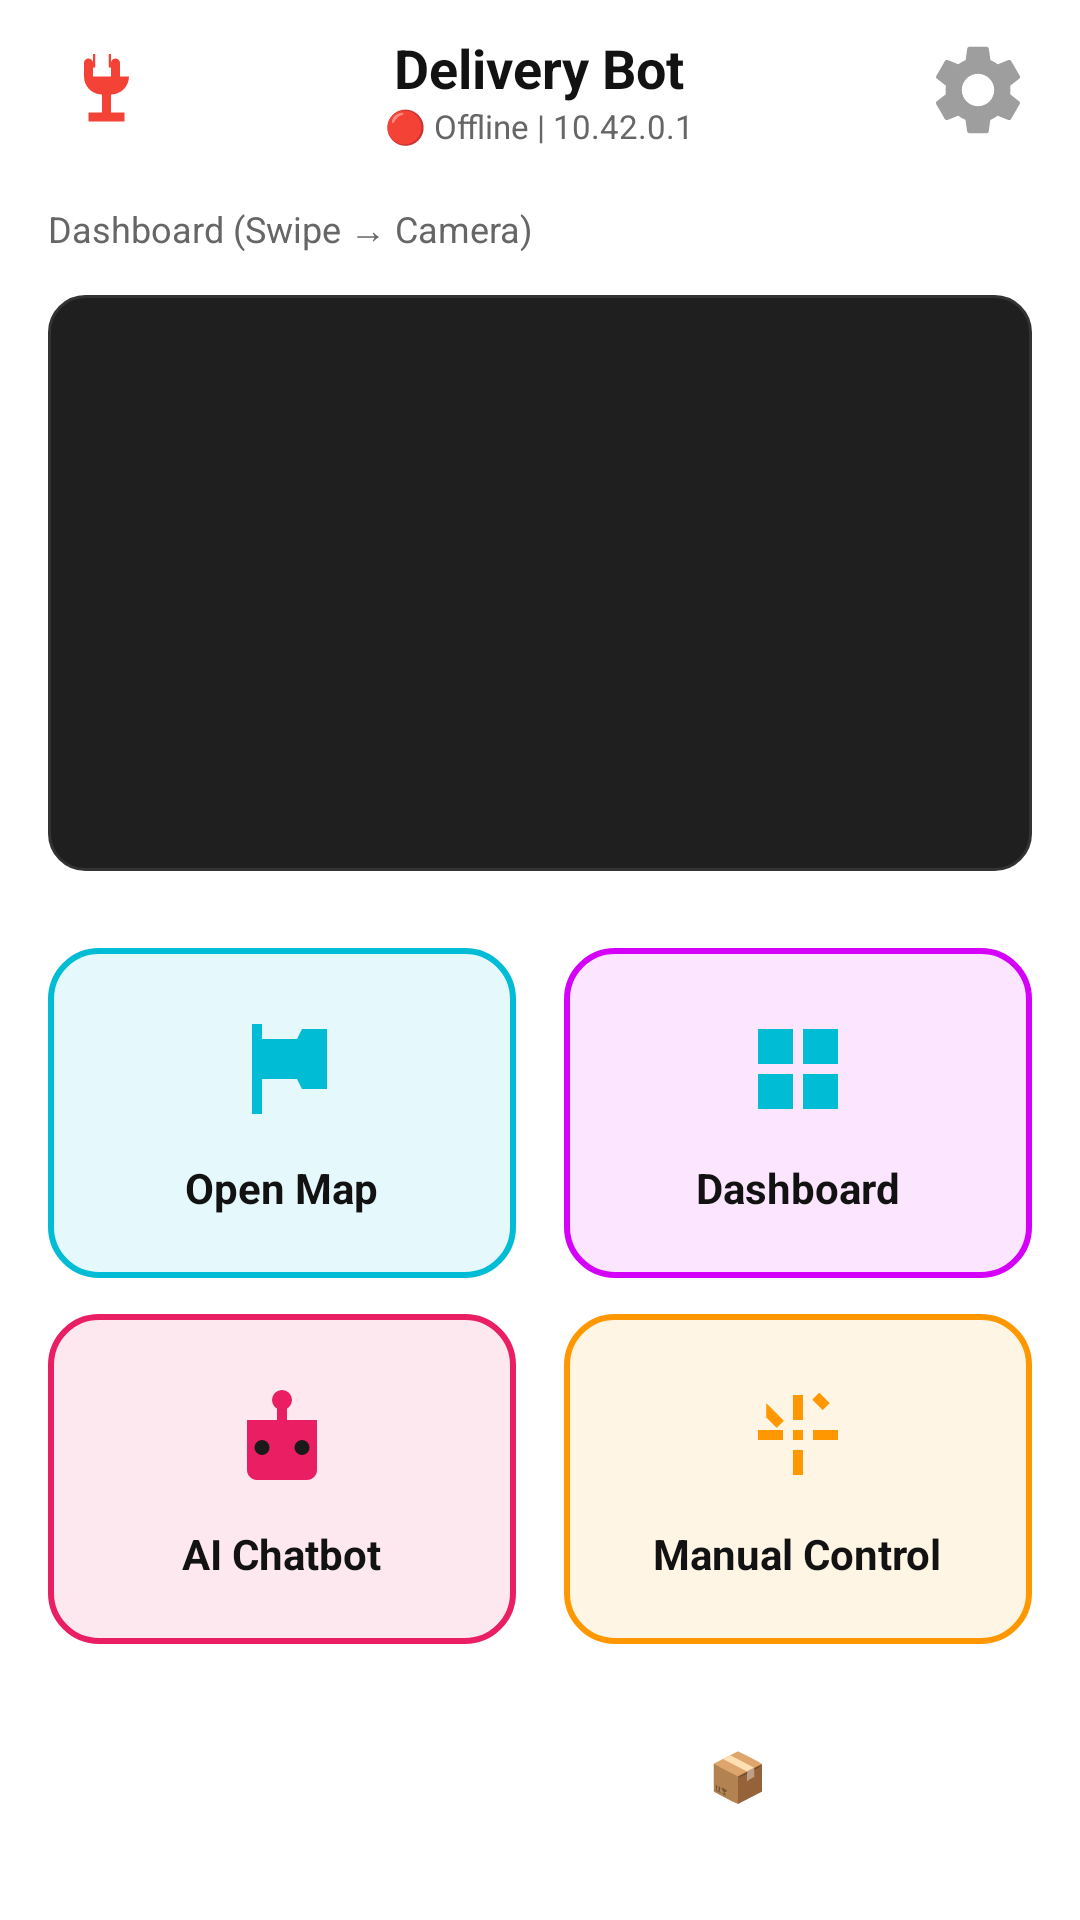

Icons on this 1080x1920 Android screen, each with its box as BBox(x1, y1, x2, y2):
Connect: BBox(84, 54, 129, 122)
Settings: BBox(936, 47, 1020, 133)
